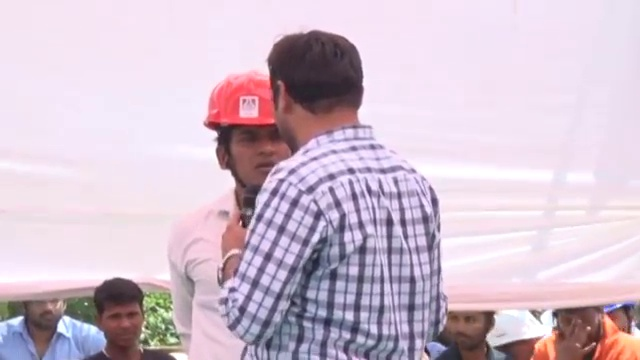helmet: (199, 65, 277, 137), (485, 307, 550, 350)
helmet_off: (262, 29, 365, 152), (91, 286, 151, 352), (555, 307, 604, 352), (441, 308, 498, 345), (16, 298, 68, 329)
helmet_on: (207, 65, 297, 199)
person: (217, 30, 441, 356), (165, 59, 299, 359), (3, 298, 105, 360), (530, 307, 636, 359)
